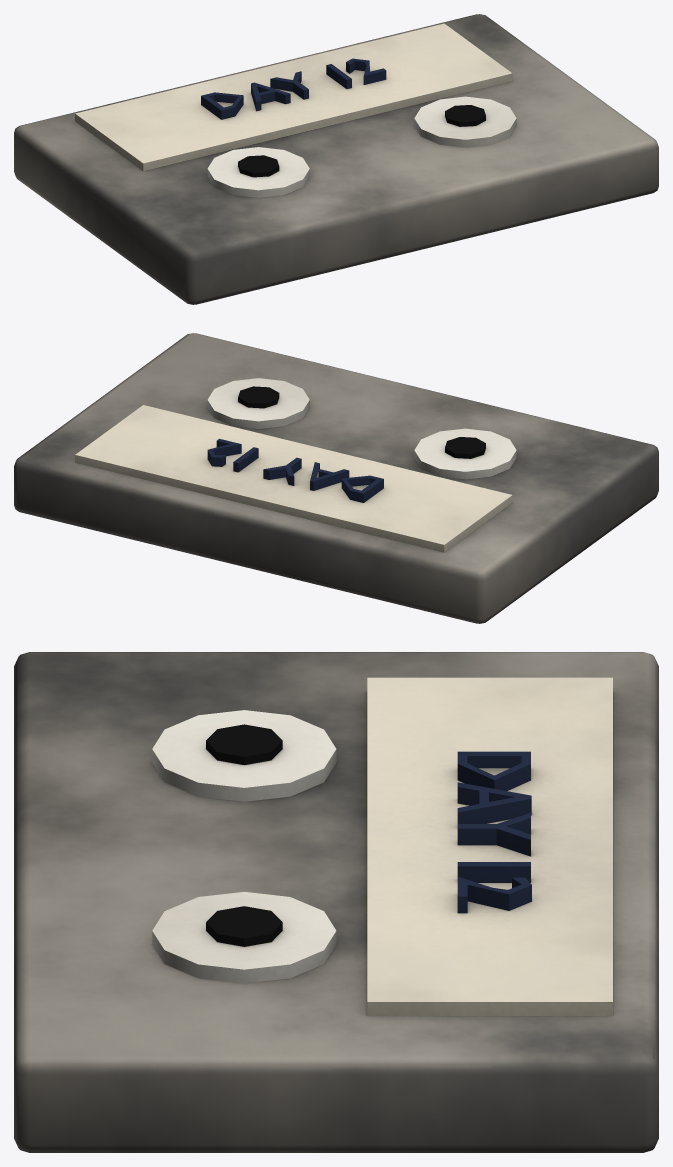
The model's file is cassette_tape.fbx.
The picture shows the model from 3 angles, top to bottom: view 1: azimuth 30°, elevation 25°; view 2: azimuth 150°, elevation 25°; view 3: azimuth 270°, elevation 25°; orthographic projection. The views are drawn at different scales.
Visible parts, largest first — view 1: Body; view 2: Body; view 3: Body.
Boxes of the visible parts, x1,y1,x2,y2 form: Body: (14,14,658,304); Body: (14,333,658,623); Body: (14,652,658,1152).
Size of the model in its own units: 0.64 by 0.092 by 0.42.
1 material, 1 textured.
